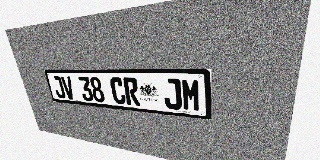3: (78, 77, 94, 101)
8: (89, 77, 105, 103)
C: (109, 77, 126, 105)
J: (163, 78, 182, 110), (51, 76, 66, 99)
M: (181, 79, 201, 112)
R: (123, 77, 140, 106)
V: (60, 76, 76, 100)
